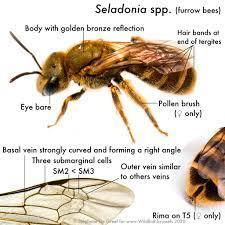Seladonia: (17, 26, 201, 134)
